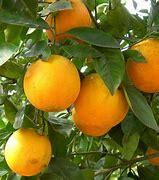orange: (14, 47, 77, 116), (1, 126, 64, 180), (71, 79, 124, 135), (116, 34, 159, 101), (37, 0, 94, 36)
